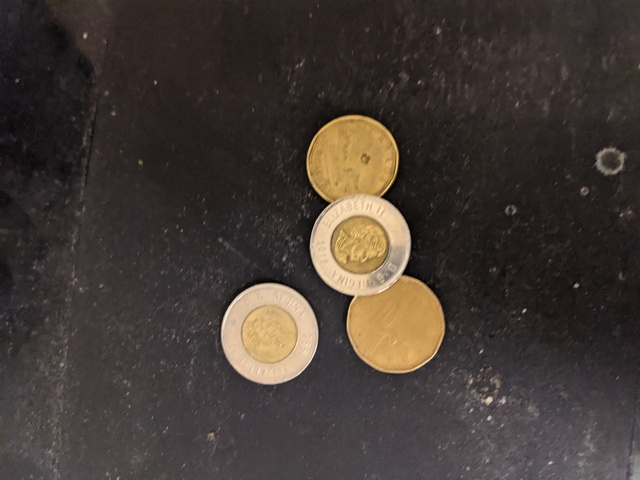loonie: (341, 266, 452, 373), (295, 107, 407, 200)
twonie: (210, 281, 331, 392), (302, 194, 410, 292)
